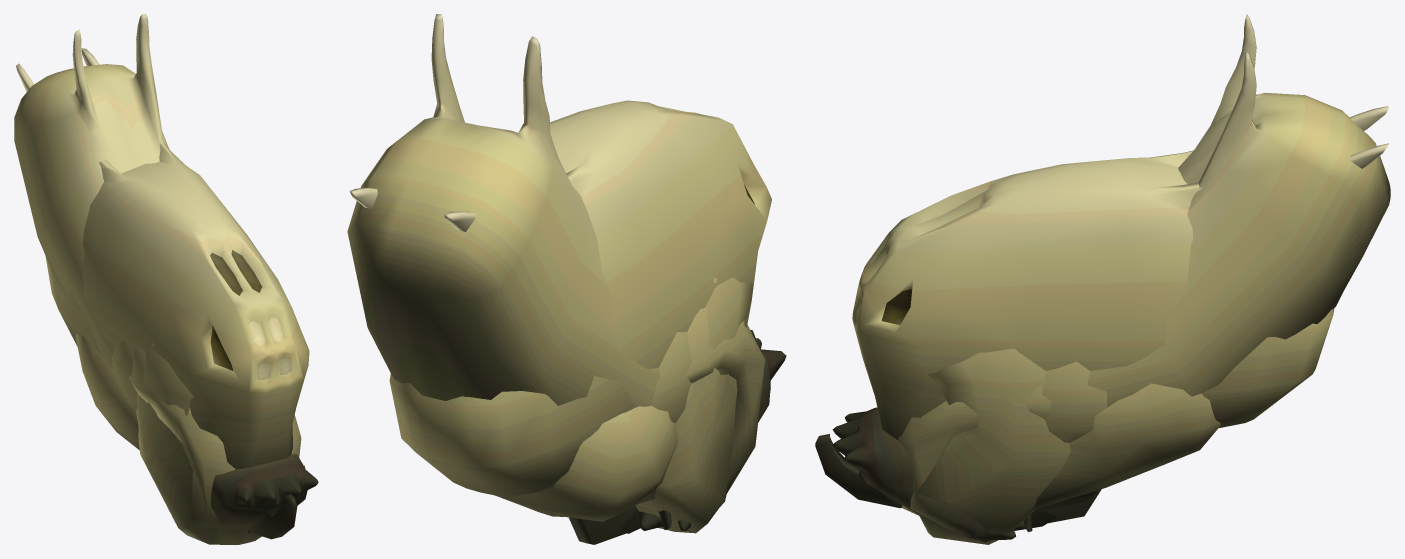
Rendered from SM_skulls.fbx.
The picture shows the model from 3 angles, left to right: view 1: azimuth 30°, elevation 25°; view 2: azimuth 150°, elevation 25°; view 3: azimuth 270°, elevation 25°; orthographic projection. The views are drawn at different scales.
Parts seen in each view (by area): view 1: pCube6, pCube5, pCube9, pCube8, pCube11, pCube12, pCube7, pCube13; view 2: pCube5, pCube6, pCube11, pCube9, pCube7, pCube8, pCube12, pCube13; view 3: pCube6, pCube5, pCube9, pCube11, pCube7, pCube8, pCube12, pCube13.
Part boxes in pixels (x1,y1,x2,y2): pCube6: [16, 48, 309, 469]; pCube5: [14, 14, 168, 369]; pCube9: [136, 342, 318, 544]; pCube8: [128, 348, 301, 530]; pCube11: [18, 48, 305, 533]; pCube12: [82, 335, 139, 449]; pCube7: [75, 333, 139, 448]; pCube13: [112, 340, 137, 410]; pCube5: [347, 14, 660, 533]; pCube6: [349, 101, 771, 544]; pCube11: [354, 100, 771, 543]; pCube9: [635, 277, 786, 533]; pCube7: [495, 406, 667, 532]; pCube8: [639, 308, 765, 531]; pCube12: [594, 405, 677, 532]; pCube13: [651, 332, 691, 422]; pCube6: [852, 106, 1388, 523]; pCube5: [1087, 14, 1390, 407]; pCube9: [815, 342, 1070, 544]; pCube11: [855, 107, 1388, 434]; pCube7: [1014, 383, 1220, 530]; pCube8: [898, 385, 1050, 542]; pCube12: [1015, 384, 1179, 530]; pCube13: [1042, 361, 1107, 442].
Bounding box in the file's own units: 9.22 × 30.09 × 31.35.
1 material, 1 textured.
